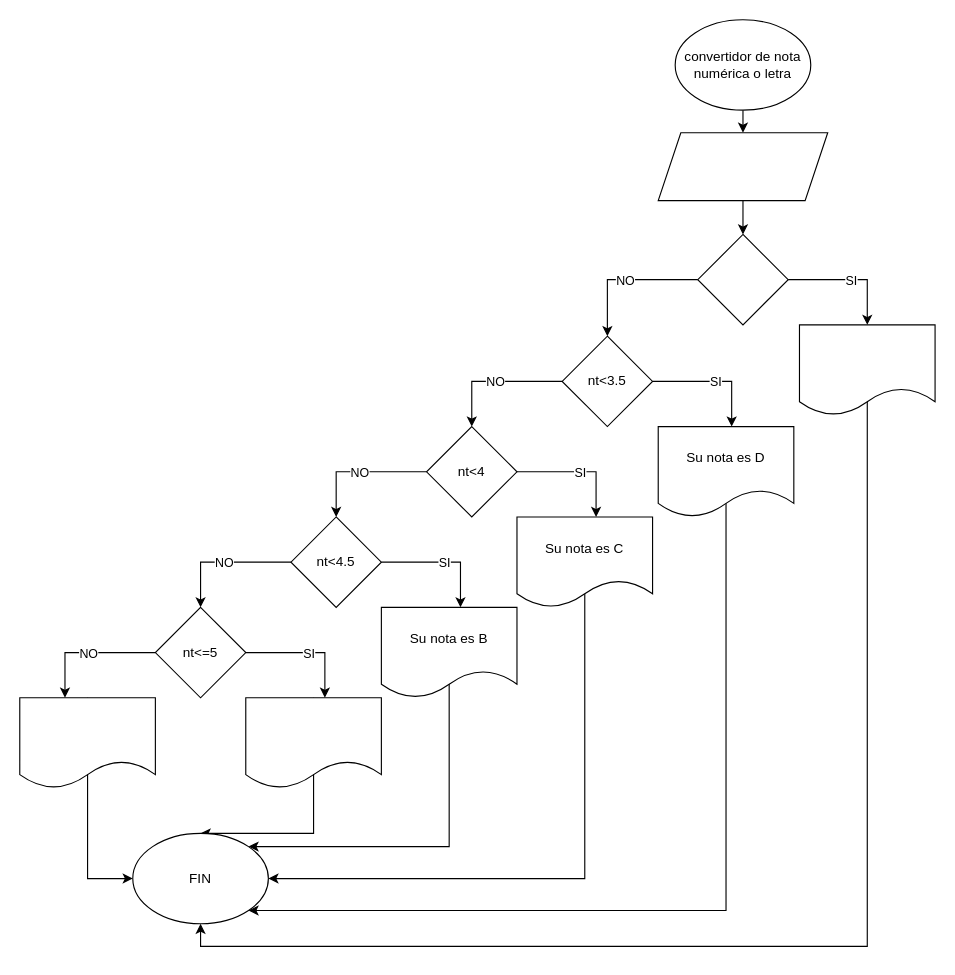
Some shapes in this 955 by 975 pixel diagram are drawn without their labels. Here are the shapes that lost their labels. From the top down, the centre of each, then its label:
point 742,166: nt=float(nota de 0 a 5)
point 742,279: nt<3 and nt>0
point 866,369: su nota es F
point 87,742: Nota no valida
point 313,742: Su nota es A
